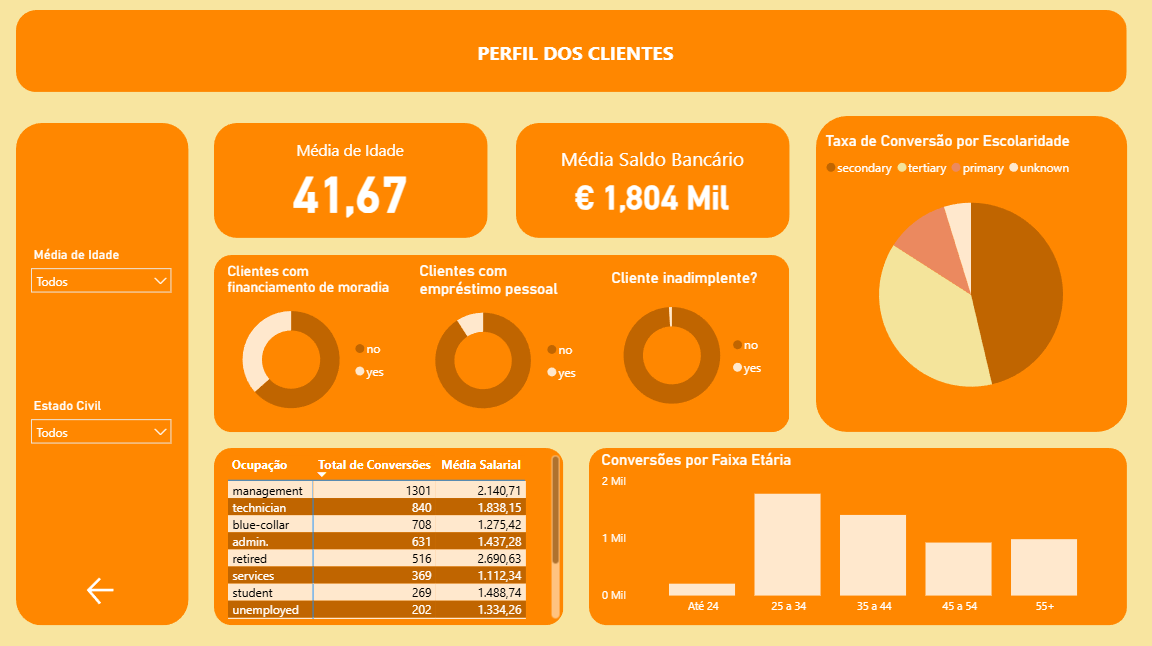

This screenshot's page, from the dashboard's own definition file:
{"tool":"powerbi","page":{"name":"Perfil Cliente","canvas":[1280,720],"ordinal":1},"visuals":[{"type":"shape","box":[654.4,498.3,597.6,196.8],"z":500},{"type":"shape","box":[17.7,11.5,1234.3,91.3],"z":1000},{"type":"shape","box":[237.6,282.9,639.3,196.8],"z":2000},{"type":"shape","box":[572.8,136.6,304.1,127.7],"z":3000},{"type":"shape","box":[237.6,136.6,304.1,127.7],"z":4000},{"type":"shape","box":[17.5,136.2,191.6,558.3],"z":5000},{"type":"actionButton","box":[92.2,636.7,42.6,39.9],"z":6000},{"type":"textbox","box":[525.8,39,256.3,43.4],"z":7000},{"type":"cardVisual","fields":{"Data":["bank-full.Média Saldo Bancário"]},"box":[604.7,136.6,241.2,127.7],"z":8000},{"type":"cardVisual","fields":{"Data":["bank-full.Média de Idade"]},"box":[283.7,136.6,211.9,127.7],"z":9000},{"type":"shape","box":[906.2,128.6,345.8,351.1],"z":10000},{"type":"pieChart","title":"Taxa de Conversão por Escolaridade","fields":{"Y":["Sum(bank-full.Total Yes)"],"Category":["bank-full.education"]},"box":[912.4,147.2,333.4,313.9],"z":11000},{"type":"donutChart","title":"Clientes com financiamento de moradia","fields":{"Category":["bank-full.housing"],"Y":["Sum(bank-full.Total Yes)"]},"box":[247.4,290.8,193.3,180.9],"z":12000},{"type":"donutChart","title":"Cliente inadimplente?","fields":{"Category":["bank-full.default"],"Y":["Sum(bank-full.Total Yes)"]},"box":[674.8,298.8,186.2,172.9],"z":13000},{"type":"donutChart","title":"Clientes com empréstimo pessoal","fields":{"Category":["bank-full.loan"],"Y":["Sum(bank-full.Total Yes)"]},"box":[461.1,290.8,193.3,180.9],"z":14000},{"type":"slicer","fields":{"Values":["bank-full.Faixa Idade"]},"box":[24.8,270.4,176.5,67.4],"z":15000},{"type":"slicer","fields":{"Values":["bank-full.marital"]},"box":[24.8,438,176.5,66.5],"z":16000},{"type":"shape","box":[237.6,498.3,388.4,196.8],"z":17000},{"type":"pivotTable","fields":{"Rows":["bank-full.job"],"Values":["Sum(bank-full.Total Yes)","bank-full.Média Salarial (Yes)"]},"box":[247.4,501,378.6,190.6],"z":18000},{"type":"clusteredColumnChart","title":"Conversões por Faixa Etária","fields":{"Y":["Sum(bank-full.Total Yes)"],"Category":["bank-full.Faixa Idade"]},"box":[663.3,501,579,190.6],"z":19000}]}

Visuals, with their boxes in screenshot pixels (x1, y1, x2, y2), scaled from the page's 1280x720 canvas onto the 1152x646 screenshot:
shape: left=589, top=447, right=1127, bottom=624
shape: left=16, top=10, right=1127, bottom=92
shape: left=214, top=254, right=789, bottom=430
shape: left=516, top=123, right=789, bottom=237
shape: left=214, top=123, right=488, bottom=237
shape: left=16, top=122, right=188, bottom=623
actionButton: left=83, top=571, right=121, bottom=607
textbox: left=473, top=35, right=704, bottom=74
cardVisual - bank-full.Média Saldo Bancário: left=544, top=123, right=761, bottom=237
cardVisual - bank-full.Média de Idade: left=255, top=123, right=446, bottom=237
shape: left=816, top=115, right=1127, bottom=430
"Taxa de Conversão por Escolaridade" pieChart: left=821, top=132, right=1121, bottom=414
"Clientes com financiamento de moradia" donutChart: left=223, top=261, right=397, bottom=423
"Cliente inadimplente?" donutChart: left=607, top=268, right=775, bottom=423
"Clientes com empréstimo pessoal" donutChart: left=415, top=261, right=589, bottom=423
slicer - bank-full.Faixa Idade: left=22, top=243, right=181, bottom=303
slicer - bank-full.marital: left=22, top=393, right=181, bottom=453
shape: left=214, top=447, right=563, bottom=624
pivotTable - bank-full.job x Sum(bank-full.Total Yes): left=223, top=450, right=563, bottom=621
"Conversões por Faixa Etária" clusteredColumnChart: left=597, top=450, right=1118, bottom=621
